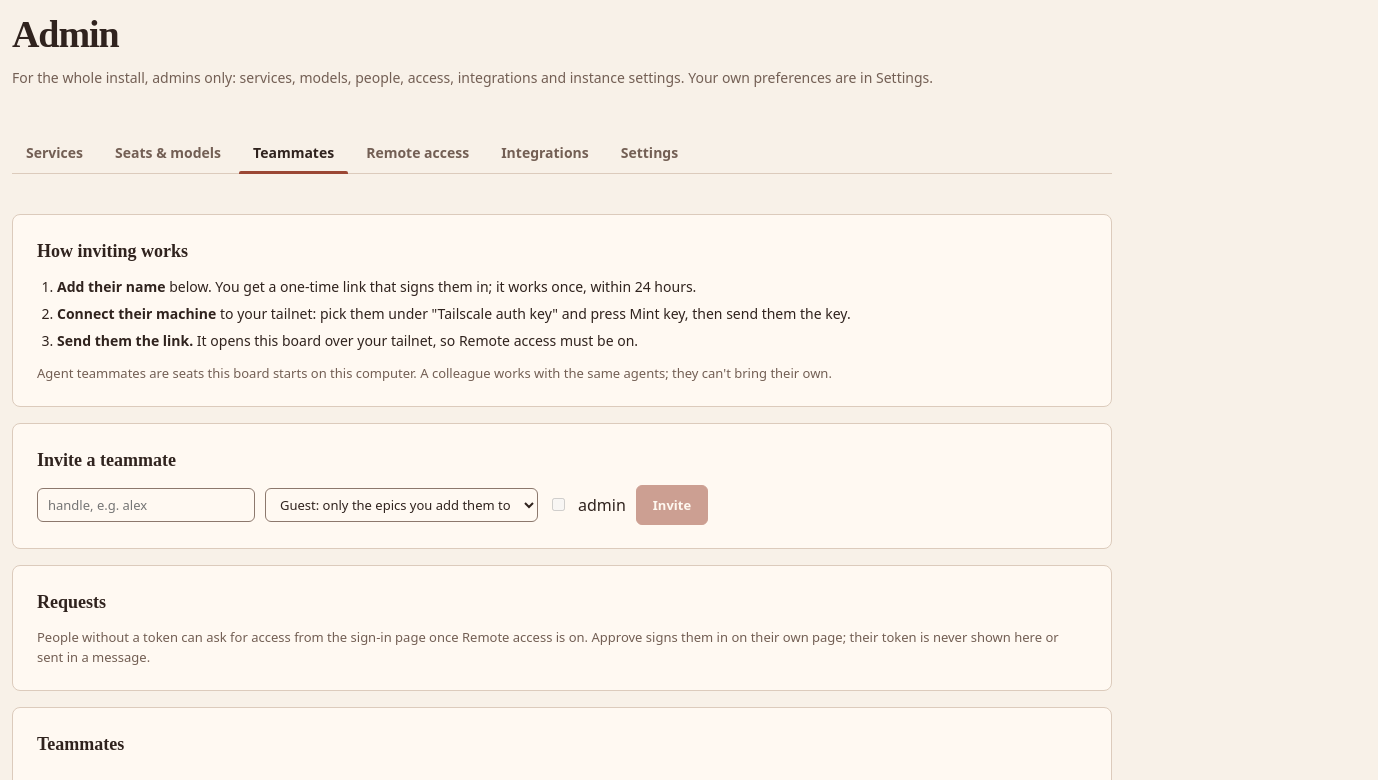
Test: #3 handle validation mirrors the server › the invite form shows an inline error, disables Invite and never posts a bad handle
This screenshot has width=1378, height=780.
In the field with test id "invite-handle": (146, 505) [37, 488, 255, 522], type "Bad Name!"
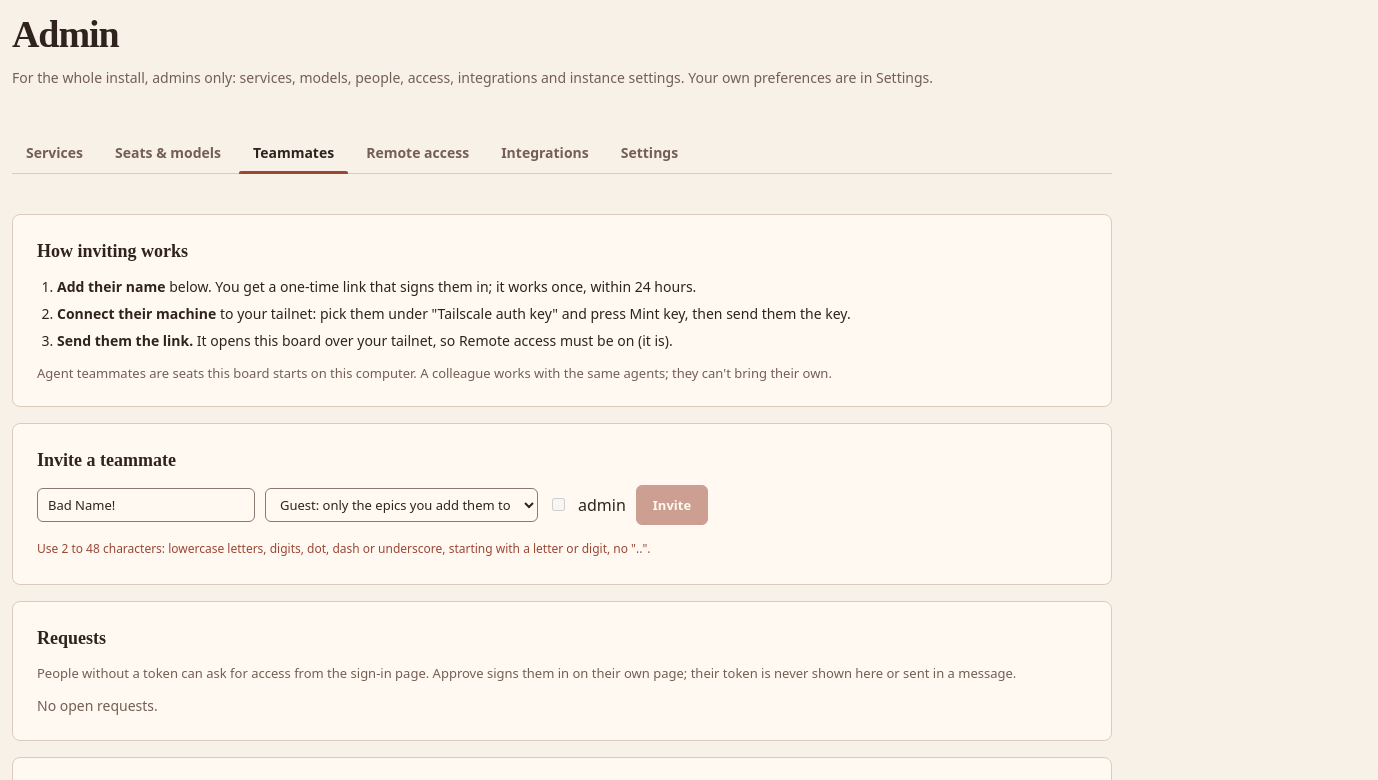
Expected: the button with test id "invite-submit" is disabled, [636, 485, 708, 525]
Expected: the message with test id "invite-handle-error" shows "lowercase", [37, 540, 651, 557]
Submit the form with test id "invite-handle", box [37, 485, 708, 525]
Replace the text in the field with test id "invite-handle" with "alex": (146, 505) [37, 488, 255, 522]
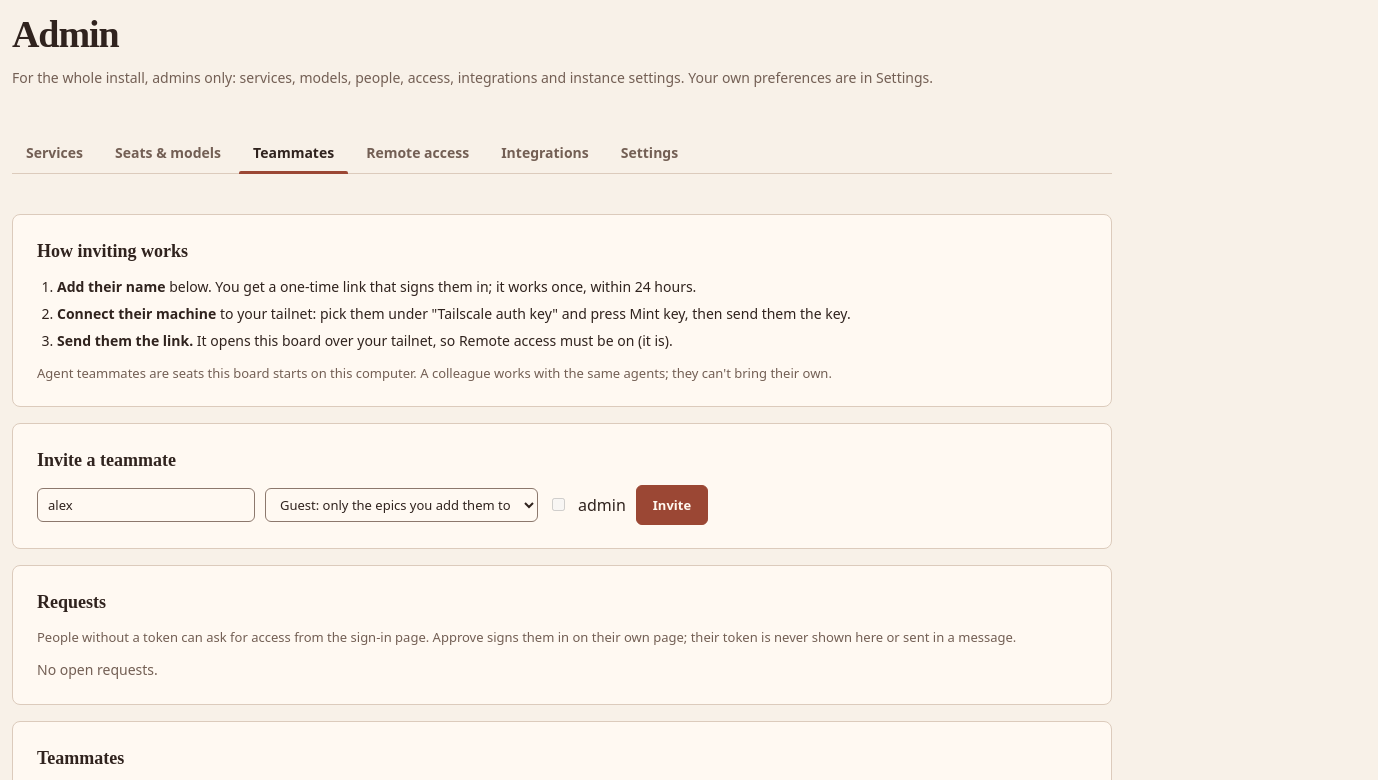
Expected: the button with test id "invite-submit" is enabled, [636, 485, 708, 525]
Expected: the message with test id "invite-handle-error" is gone
